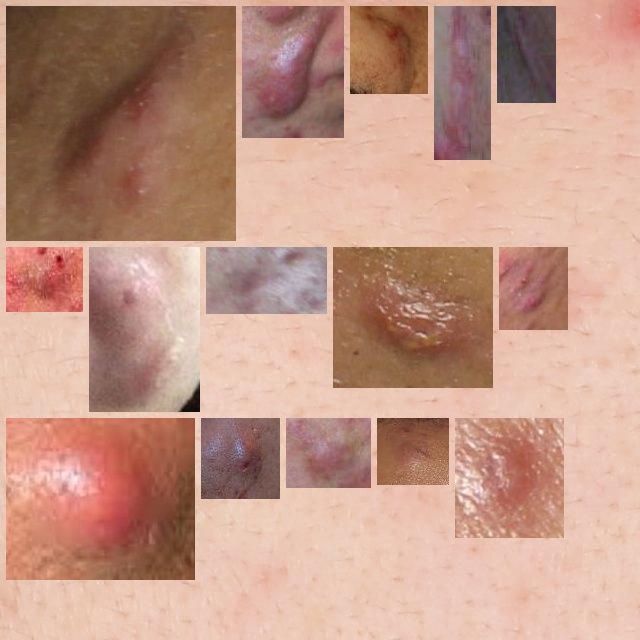nodule: (14, 14, 228, 233), (14, 426, 187, 572), (341, 255, 485, 380), (97, 255, 192, 404), (250, 14, 336, 130), (463, 426, 556, 530), (442, 14, 483, 152), (214, 255, 319, 306), (358, 14, 420, 86), (209, 426, 272, 491), (294, 426, 363, 480), (507, 255, 560, 322), (505, 14, 548, 95), (14, 255, 75, 304), (385, 426, 441, 477)
